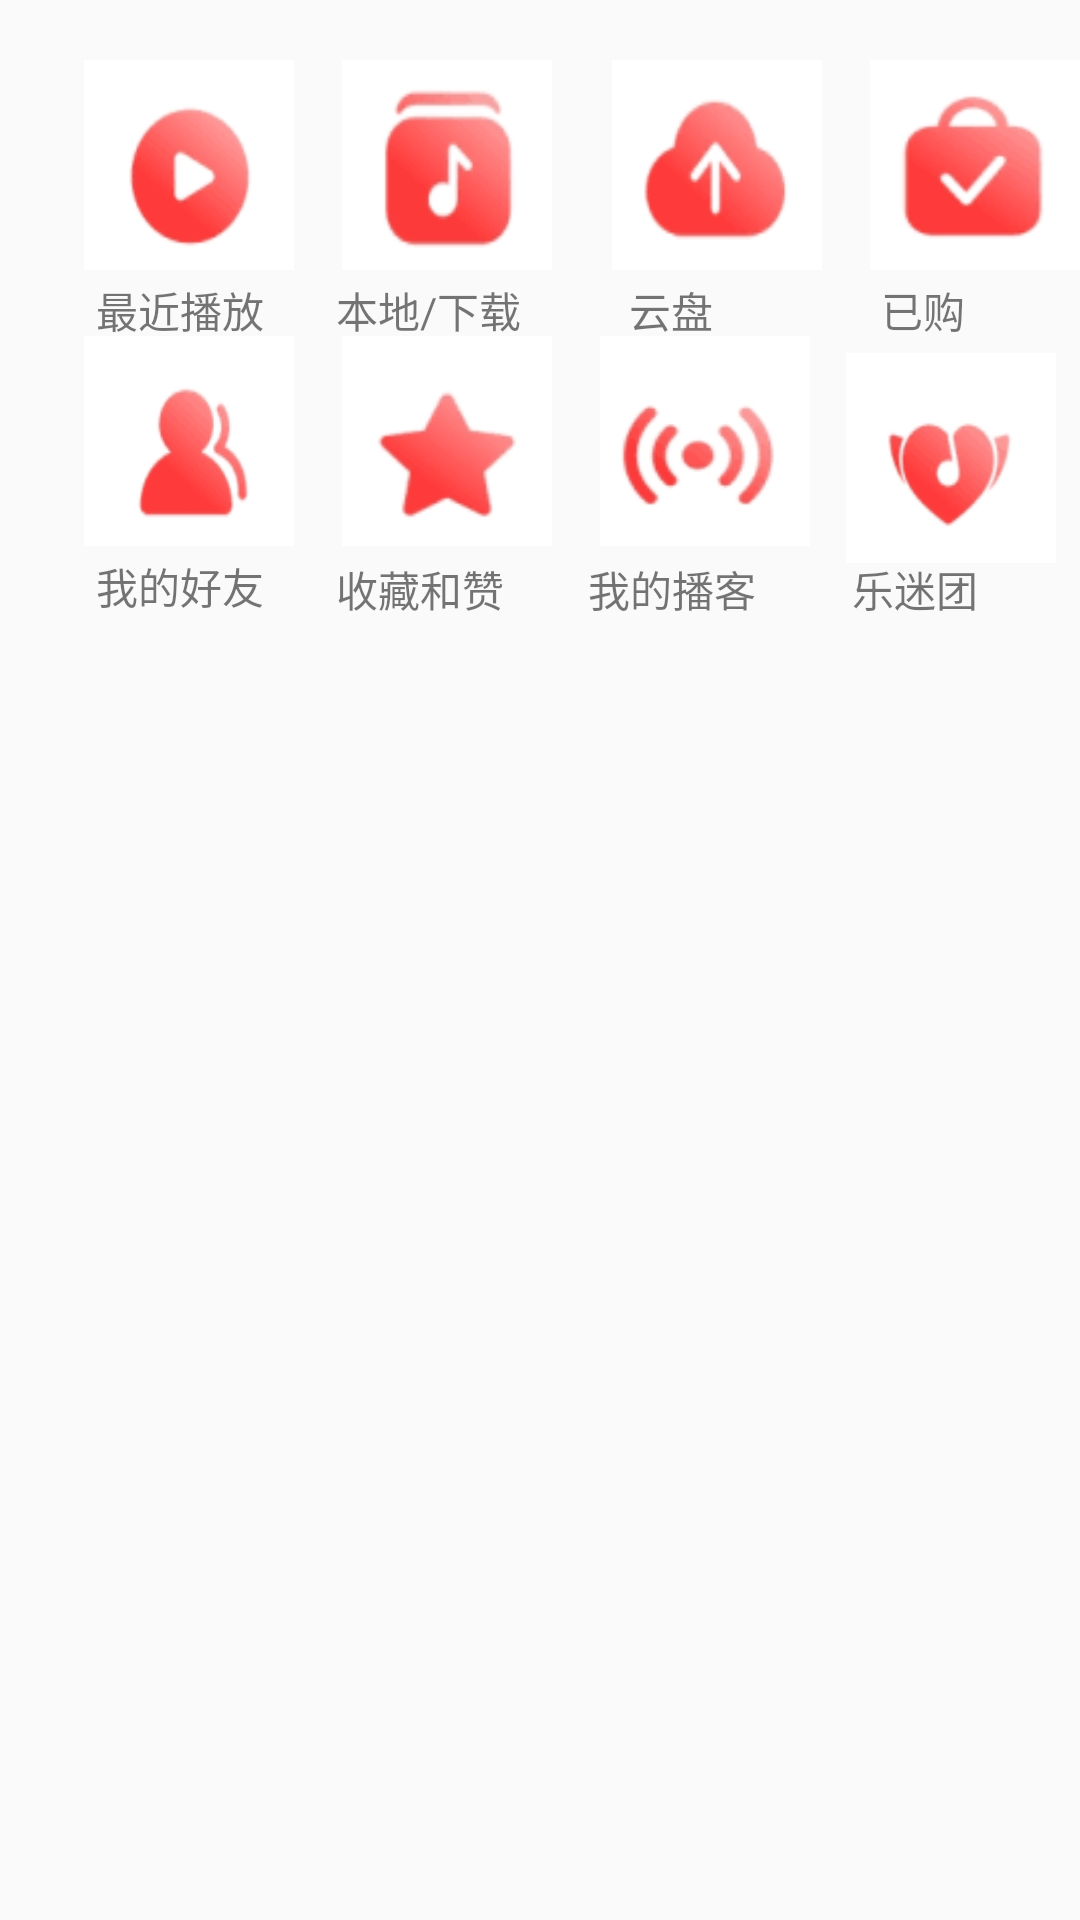

Named icons in this screenshot (1080w x 1920h) and their centers, [x,y]:
shoucnag: [446,455]
wodehaoyou: [193,453]
yigou: [973,166]
yunpan: [715,169]
